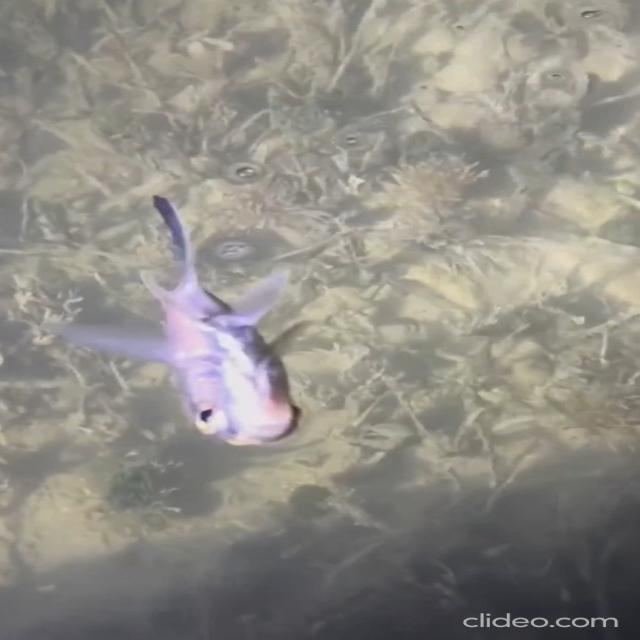fish: (66, 190, 352, 455)
